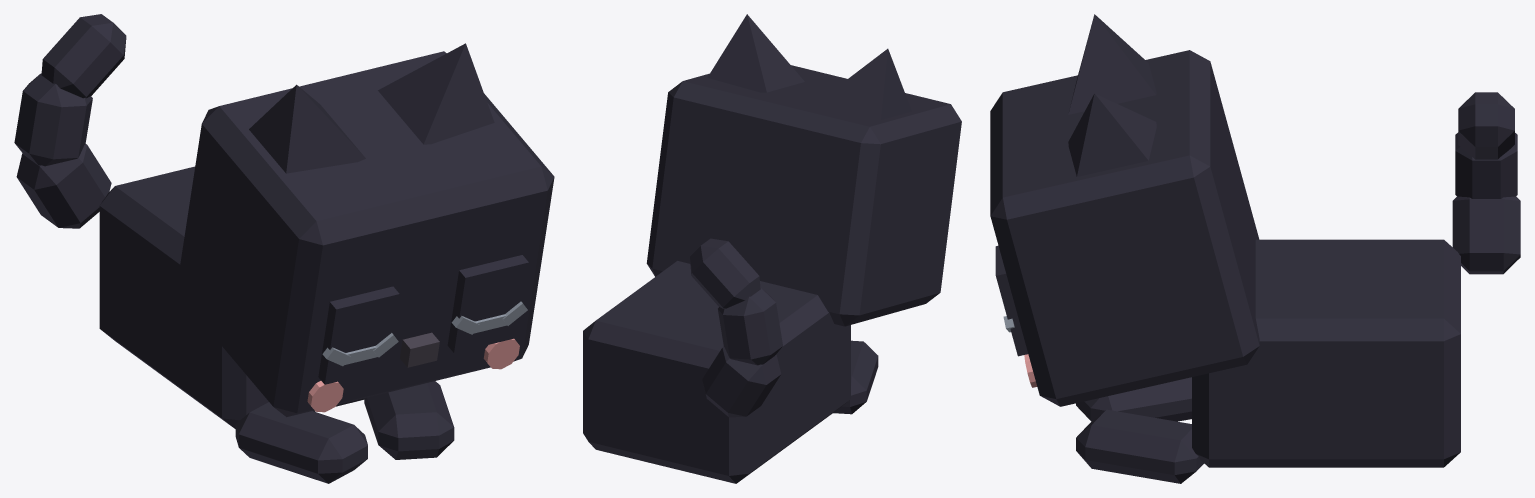
The model's file is CleanACat_Cat_Inky_Loaf_Lite.fbx.
3 views of the same model, side by side, from view 1: azimuth 30°, elevation 25°; view 2: azimuth 150°, elevation 25°; view 3: azimuth 270°, elevation 25° (orthographic). The views are drawn at different scales.
Parts seen in each view (by area): view 1: CleanACat_Cat_Inky_Loaf_Lite_Head, CleanACat_Cat_Inky_Loaf_Lite_Body, CleanACat_Cat_Inky_Loaf_Lite_Tail, CleanACat_Cat_Inky_Loaf_Lite_Paws, CleanACat_Cat_Inky_Loaf_Lite_EarL, CleanACat_Cat_Inky_Loaf_Lite_Eye2, CleanACat_Cat_Inky_Loaf_Lite_Eye1, CleanACat_Cat_Inky_Loaf_Lite_EarR; view 2: CleanACat_Cat_Inky_Loaf_Lite_Head, CleanACat_Cat_Inky_Loaf_Lite_Body, CleanACat_Cat_Inky_Loaf_Lite_Tail, CleanACat_Cat_Inky_Loaf_Lite_EarL, CleanACat_Cat_Inky_Loaf_Lite_EarR, CleanACat_Cat_Inky_Loaf_Lite_Paws; view 3: CleanACat_Cat_Inky_Loaf_Lite_Head, CleanACat_Cat_Inky_Loaf_Lite_Body, CleanACat_Cat_Inky_Loaf_Lite_Tail, CleanACat_Cat_Inky_Loaf_Lite_Paws, CleanACat_Cat_Inky_Loaf_Lite_EarL, CleanACat_Cat_Inky_Loaf_Lite_EarR, CleanACat_Cat_Inky_Loaf_Lite_Eye1.
Boxes of the visible parts, x1,y1,x2,y2 form: CleanACat_Cat_Inky_Loaf_Lite_Head: (176, 51, 554, 417); CleanACat_Cat_Inky_Loaf_Lite_Body: (99, 166, 364, 428); CleanACat_Cat_Inky_Loaf_Lite_Tail: (14, 14, 126, 228); CleanACat_Cat_Inky_Loaf_Lite_Paws: (235, 381, 454, 483); CleanACat_Cat_Inky_Loaf_Lite_EarL: (378, 43, 494, 144); CleanACat_Cat_Inky_Loaf_Lite_Eye2: (318, 286, 399, 384); CleanACat_Cat_Inky_Loaf_Lite_Eye1: (447, 255, 528, 353); CleanACat_Cat_Inky_Loaf_Lite_EarR: (249, 84, 365, 173); CleanACat_Cat_Inky_Loaf_Lite_Head: (646, 65, 961, 326); CleanACat_Cat_Inky_Loaf_Lite_Body: (583, 261, 850, 483); CleanACat_Cat_Inky_Loaf_Lite_Tail: (690, 238, 782, 417); CleanACat_Cat_Inky_Loaf_Lite_EarL: (707, 14, 804, 92); CleanACat_Cat_Inky_Loaf_Lite_EarR: (815, 48, 911, 119); CleanACat_Cat_Inky_Loaf_Lite_Paws: (833, 340, 878, 414); CleanACat_Cat_Inky_Loaf_Lite_Head: (990, 50, 1259, 406); CleanACat_Cat_Inky_Loaf_Lite_Body: (1192, 239, 1460, 467); CleanACat_Cat_Inky_Loaf_Lite_Tail: (1452, 92, 1520, 274); CleanACat_Cat_Inky_Loaf_Lite_Paws: (1076, 377, 1203, 483); CleanACat_Cat_Inky_Loaf_Lite_EarL: (1068, 93, 1156, 176); CleanACat_Cat_Inky_Loaf_Lite_EarR: (1068, 14, 1156, 114); CleanACat_Cat_Inky_Loaf_Lite_Eye1: (995, 245, 1028, 356).
Bounding box in the file's own units: 1.11 × 1.52 × 1.87.
Materials: 1 (1 with a texture image).
